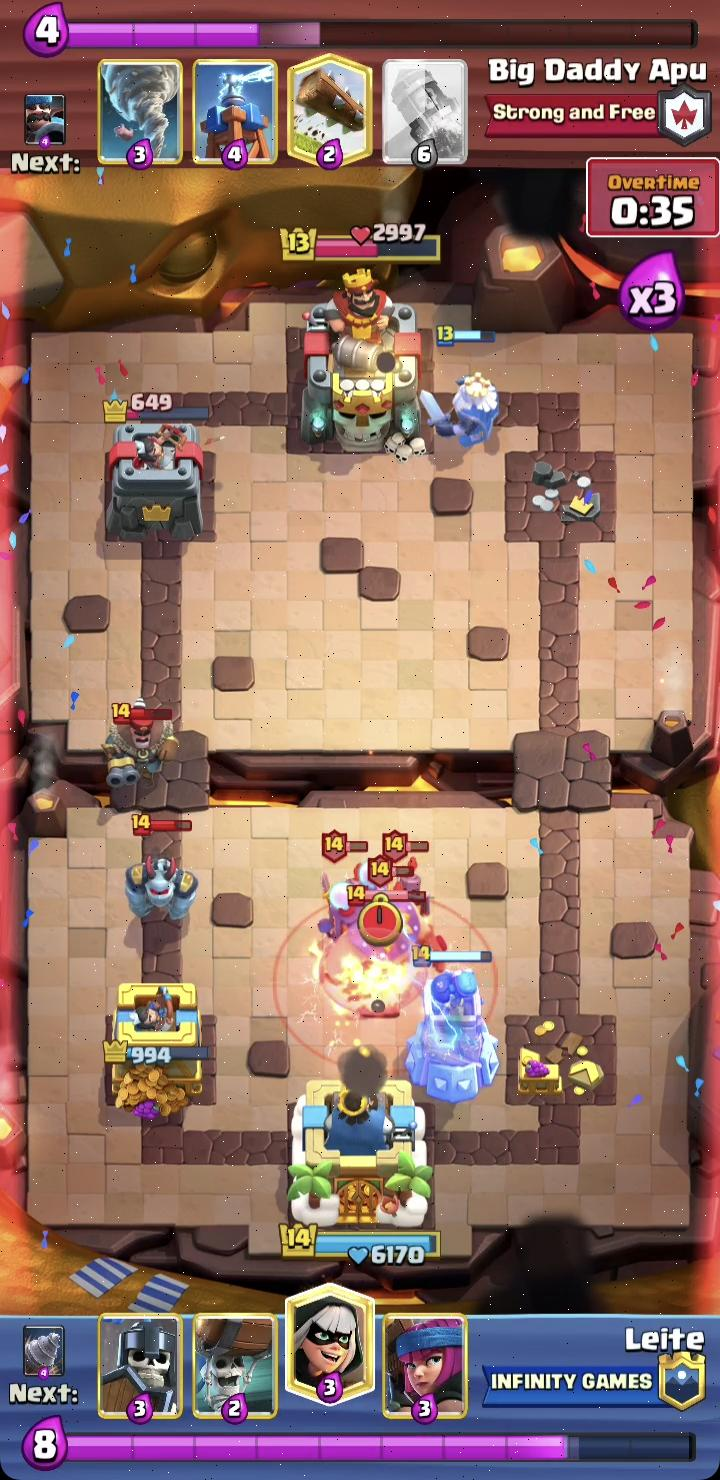EGuard: (394, 857, 429, 920)
EHunter: (102, 698, 179, 808)
EKingTower: (302, 271, 423, 460)
EMegaM: (125, 850, 198, 923)
EnemyPrincessTower: (105, 407, 208, 542)
OBombertower: (405, 951, 499, 1104)
ORoyalGhost: (420, 373, 499, 451)
OwnKingTower: (288, 1081, 432, 1228)
OwnPrincessTower: (103, 984, 209, 1098)
TowerDown: (507, 450, 616, 541), (507, 1016, 616, 1103)
